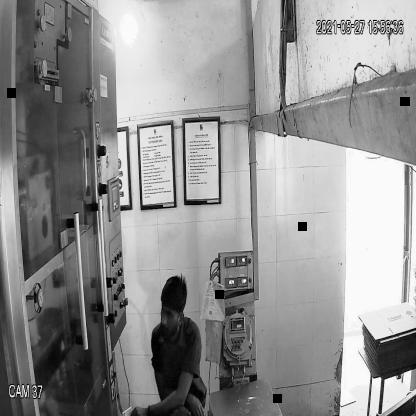no_goggles: (156, 303, 181, 322)
